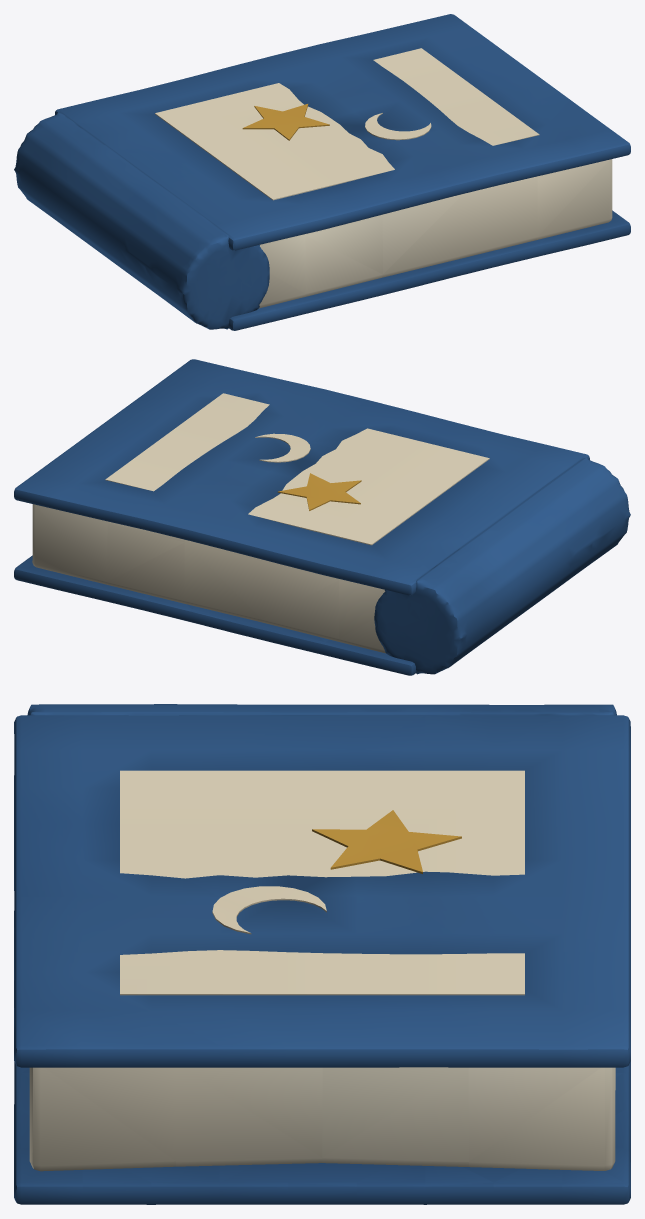
File: den_story_book.glb
3 views of the same model, one above another, from view 1: azimuth 30°, elevation 25°; view 2: azimuth 150°, elevation 25°; view 3: azimuth 270°, elevation 25° (orthographic). The views are drawn at different scales.
Parts seen in each view (by area): view 1: den_story_book; view 2: den_story_book; view 3: den_story_book.
Boxes of the visible parts, bbox=[...] form: den_story_book: bbox=[14, 14, 630, 330]; den_story_book: bbox=[14, 359, 630, 675]; den_story_book: bbox=[14, 704, 630, 1204].
Bounding box in the file's own units: 20.01 × 4.1 × 14.01.
